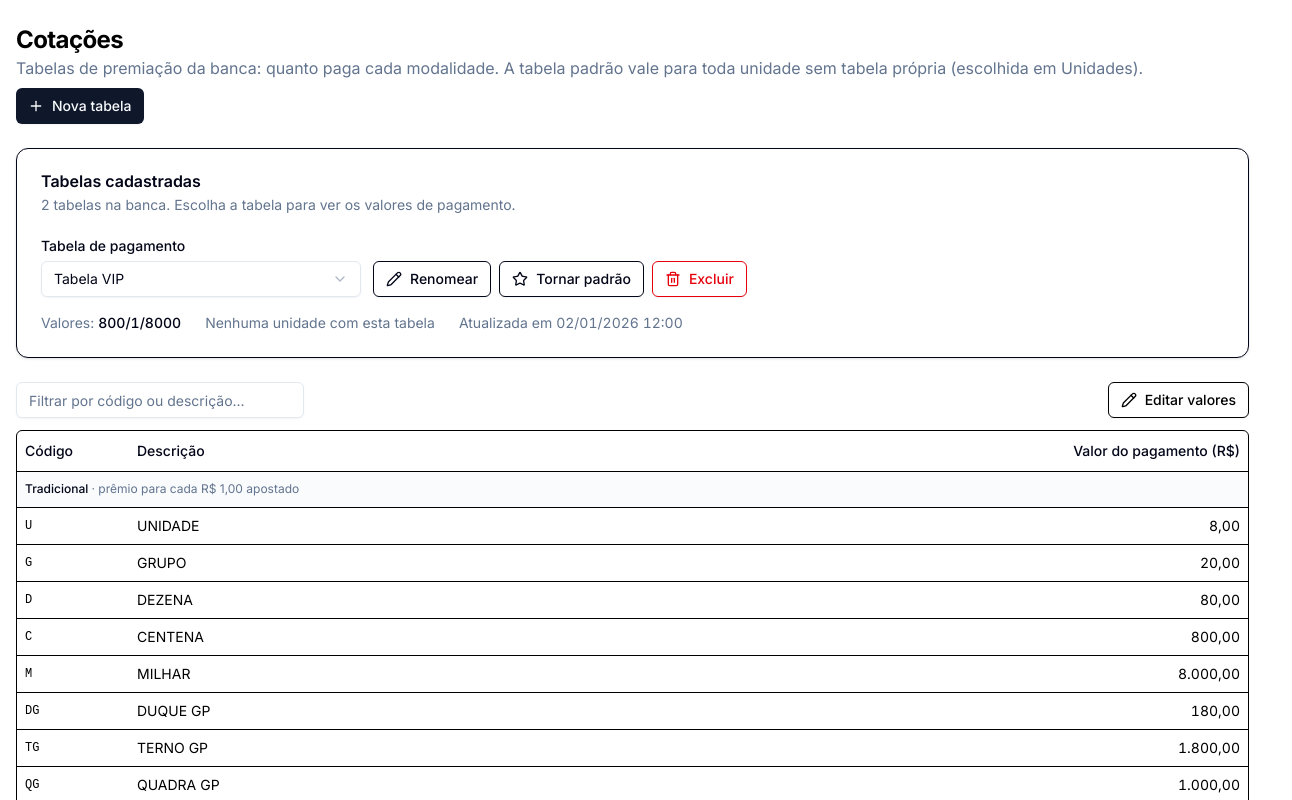
Test: Cotações: tela › erros da API aparecem na linha e na mensagem; cancelar descarta a edição
Click the button "Editar valores" at (1178, 400), box [1108, 382, 1249, 418]
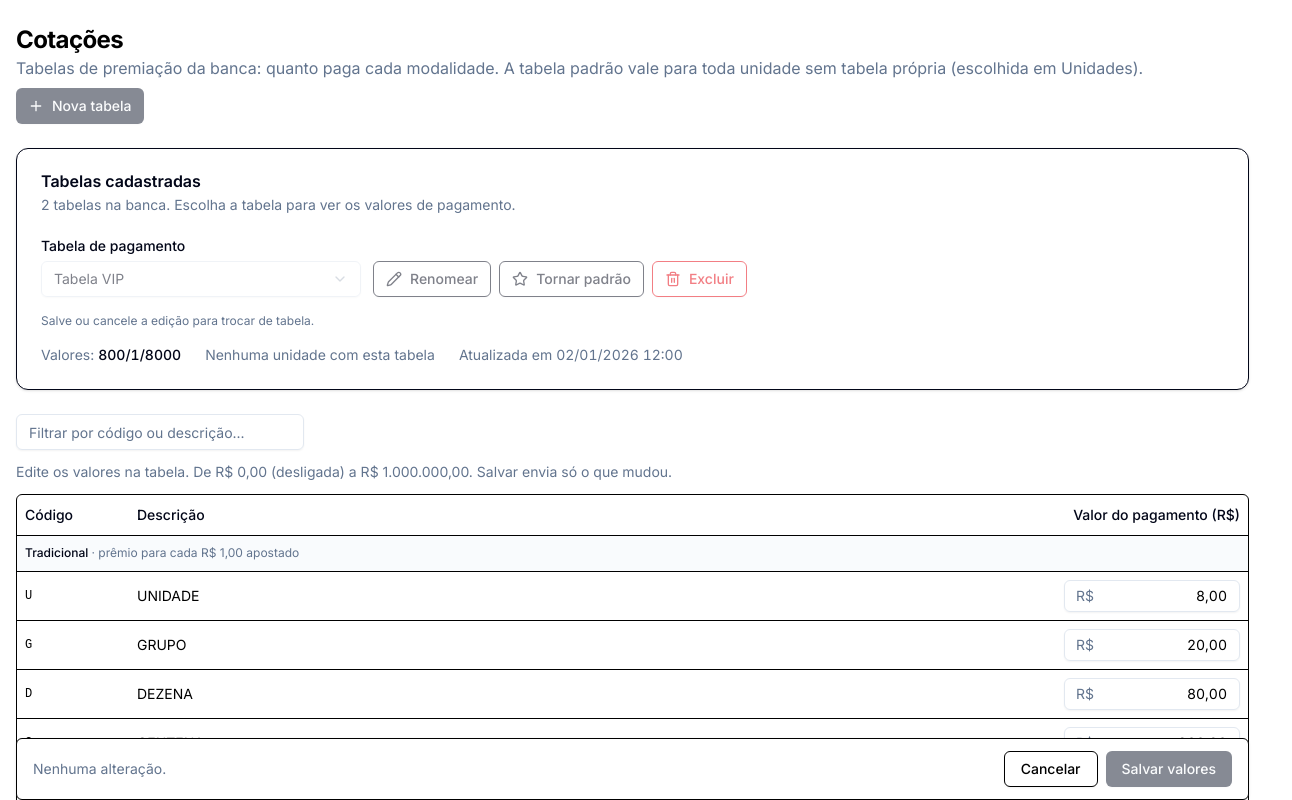
Type "5" into the field named "Valor do pagamento G (GRUPO)" at (1152, 644), box [1064, 628, 1240, 660]
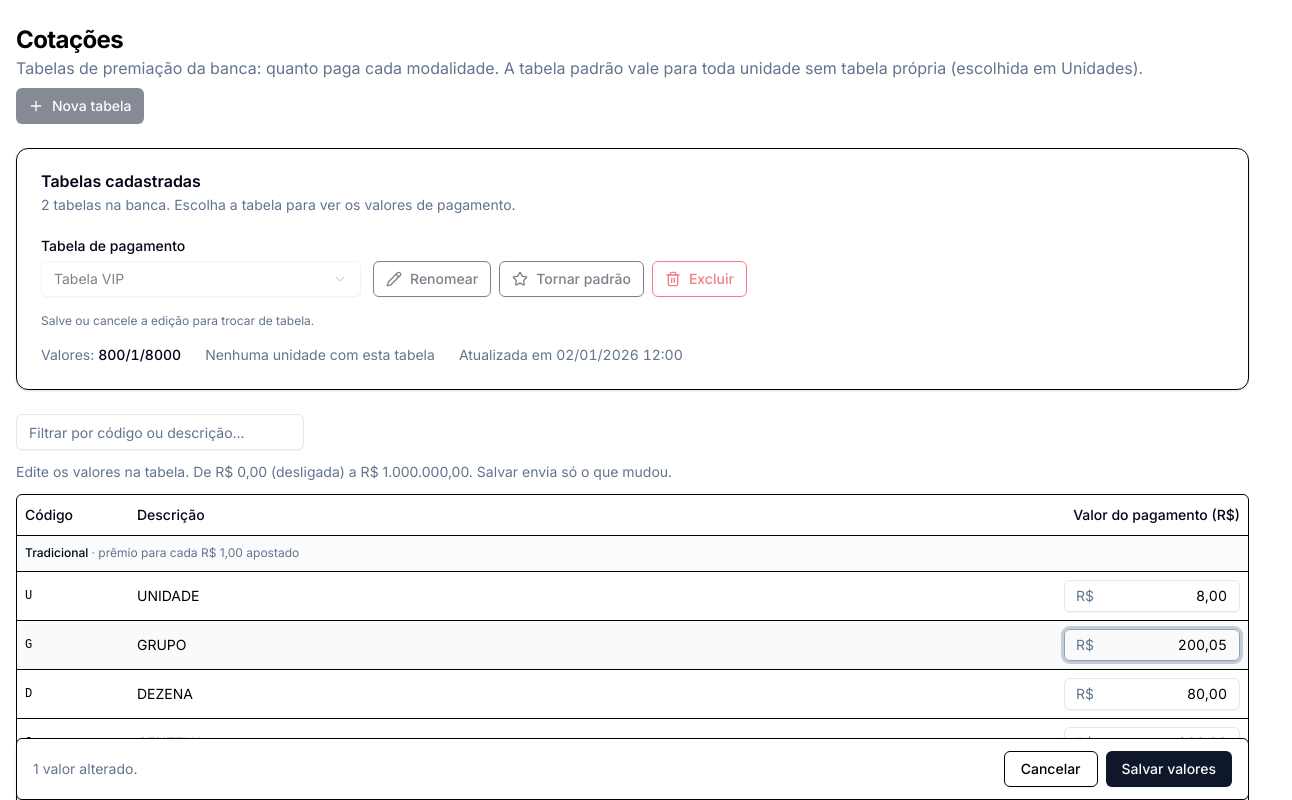
Click the button "Salvar valores" at (1169, 769), box [1106, 751, 1232, 787]
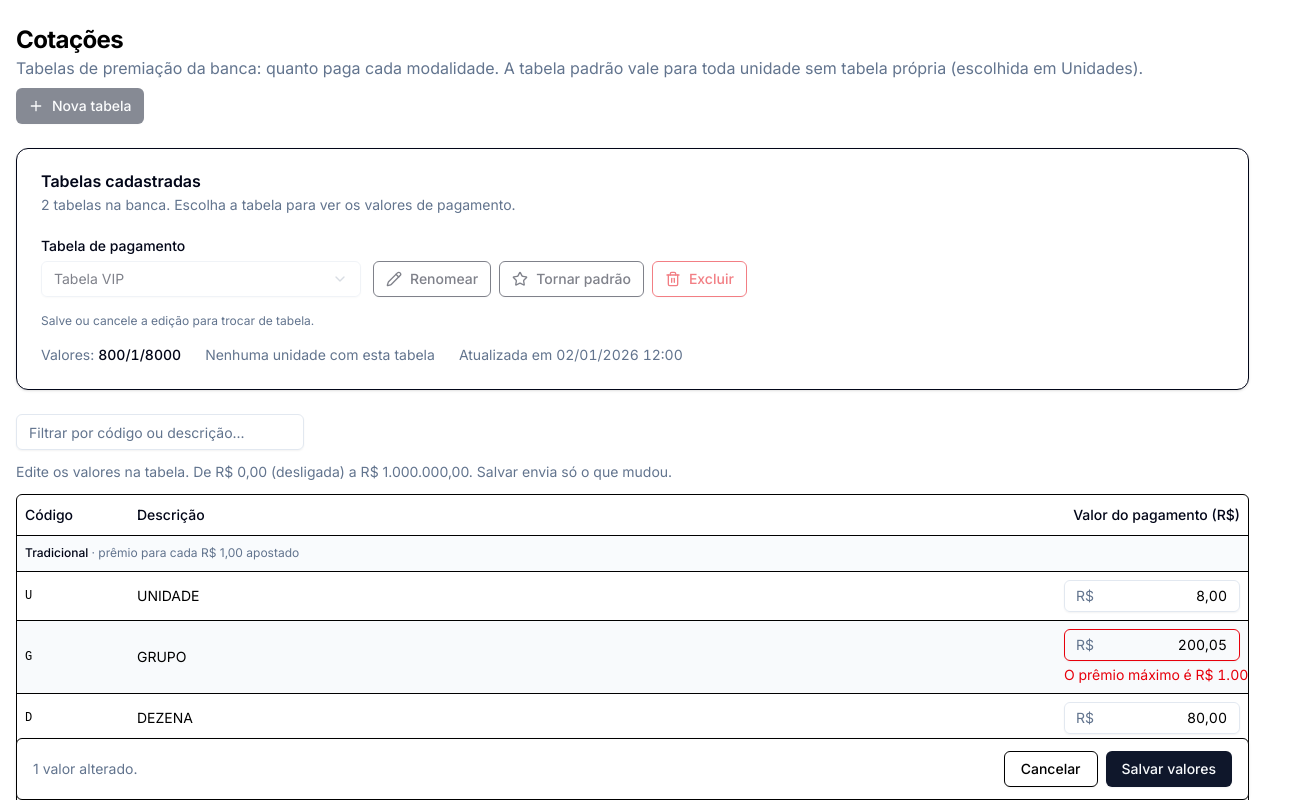
Check: the button "Cancelar" is enabled
Check: the message "O prêmio máximo é R$ 1.000.000,00." is shown, box [1064, 664, 1240, 684]
Click the button "Cancelar" at (1051, 769), box [1004, 751, 1098, 787]
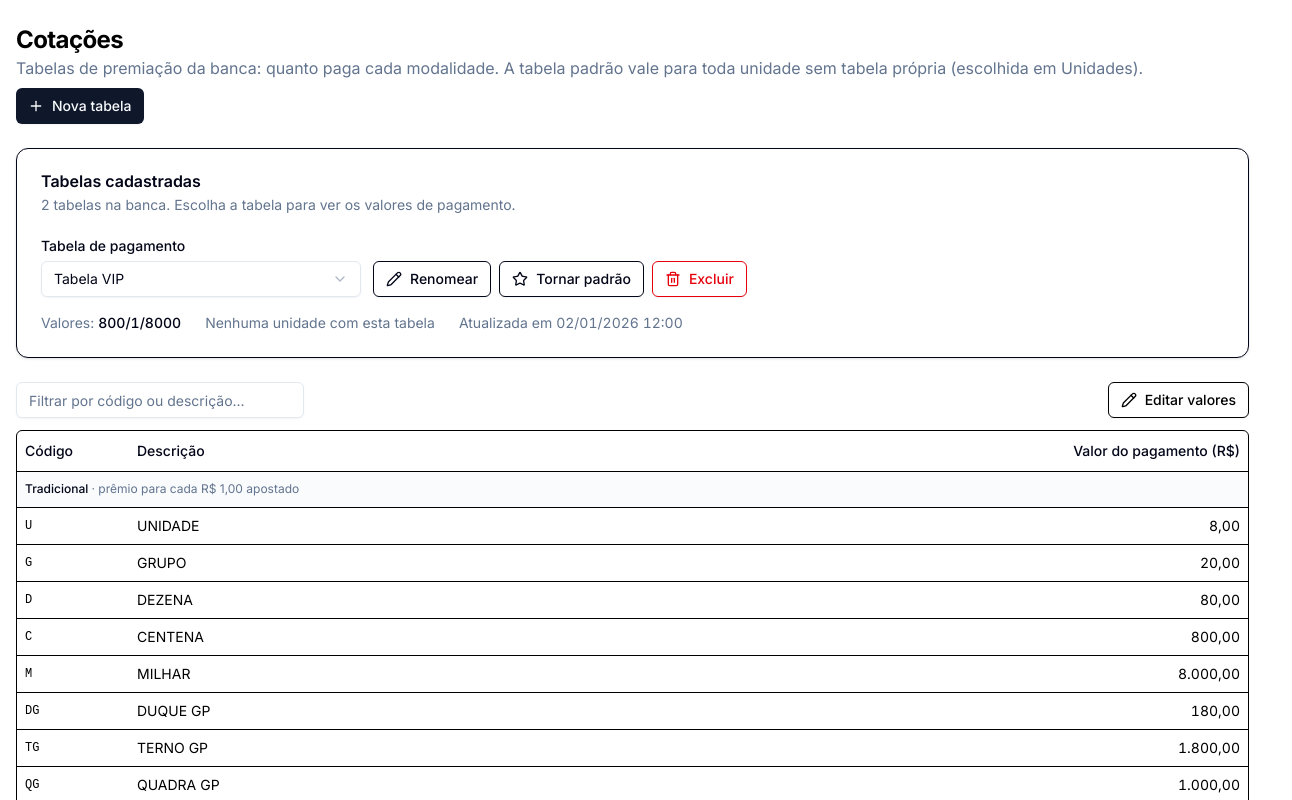
Check: the cell "20,00" is shown, box [1056, 544, 1248, 581]
